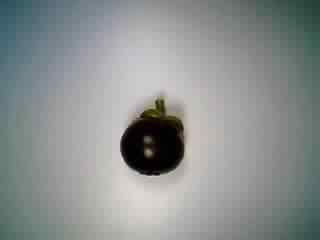mangosteen: (115, 94, 192, 177)
